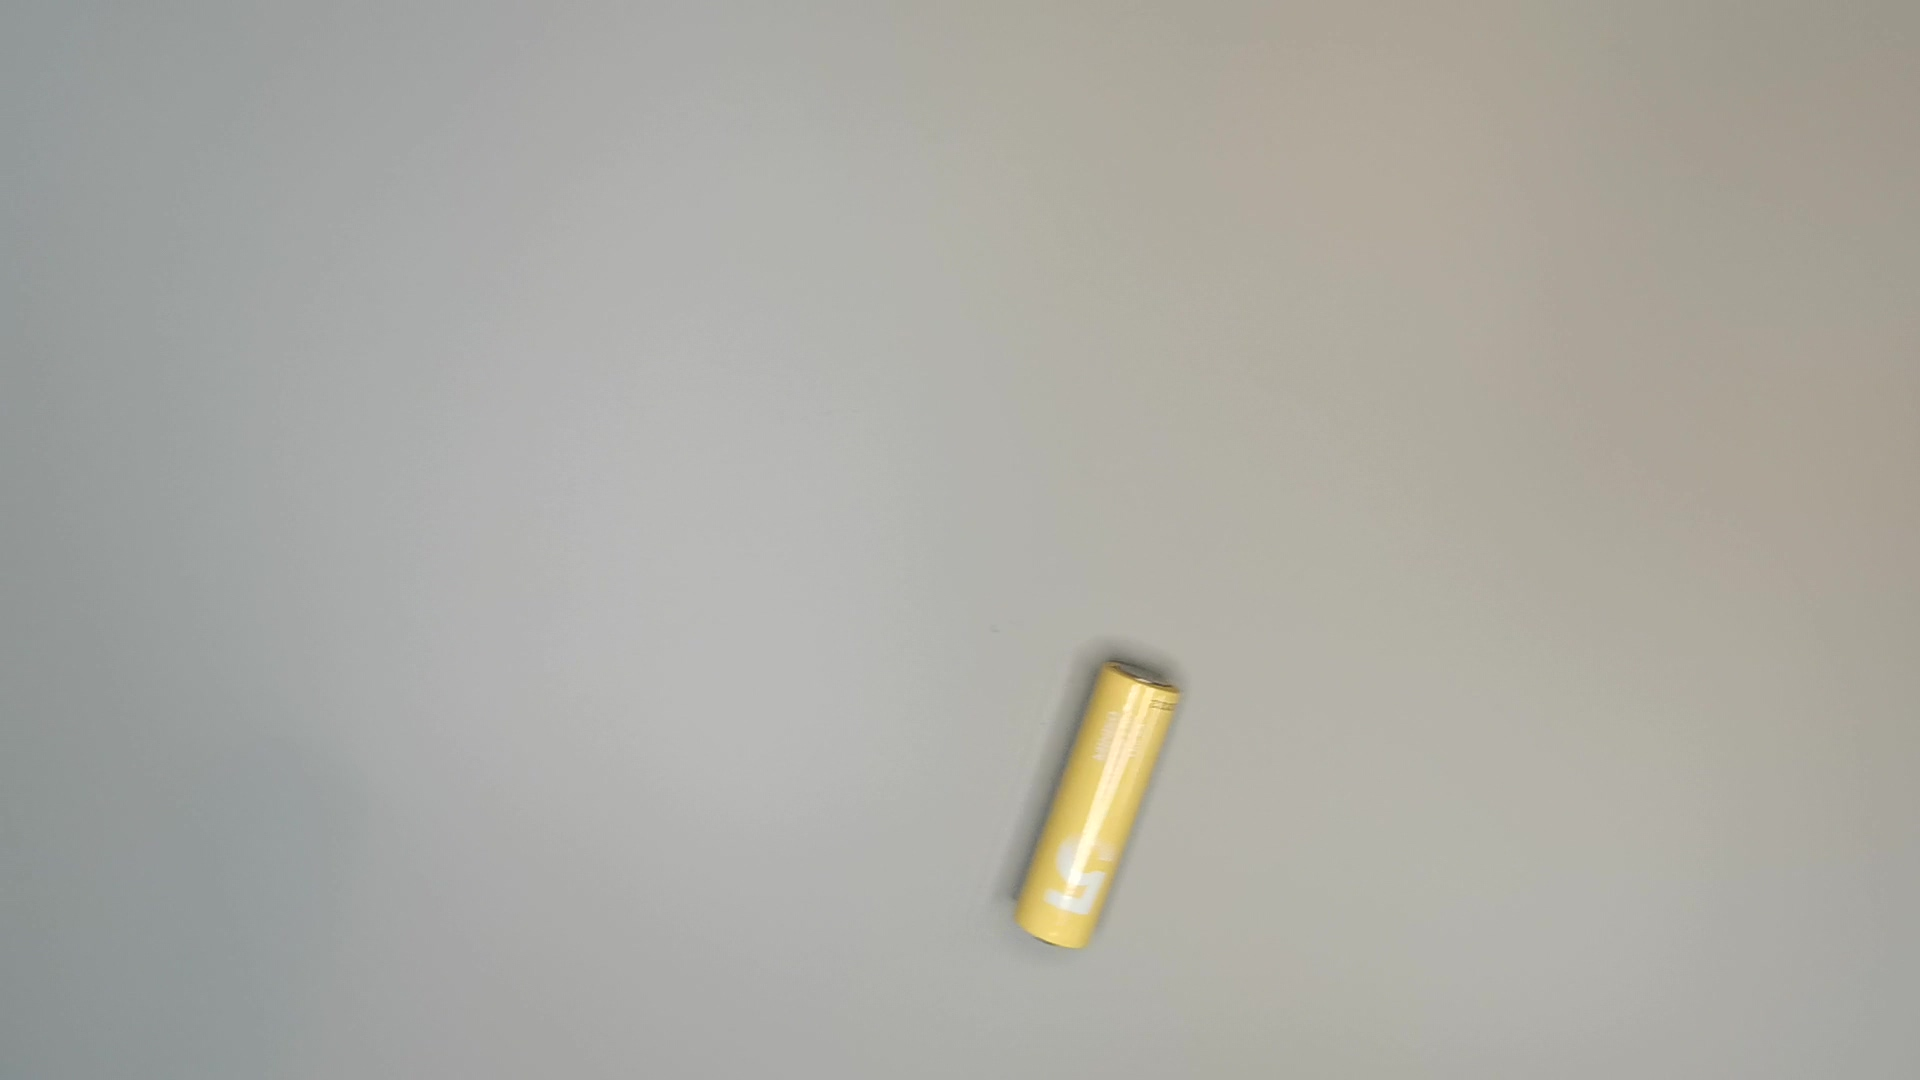battery: (1007, 650, 1192, 960)
